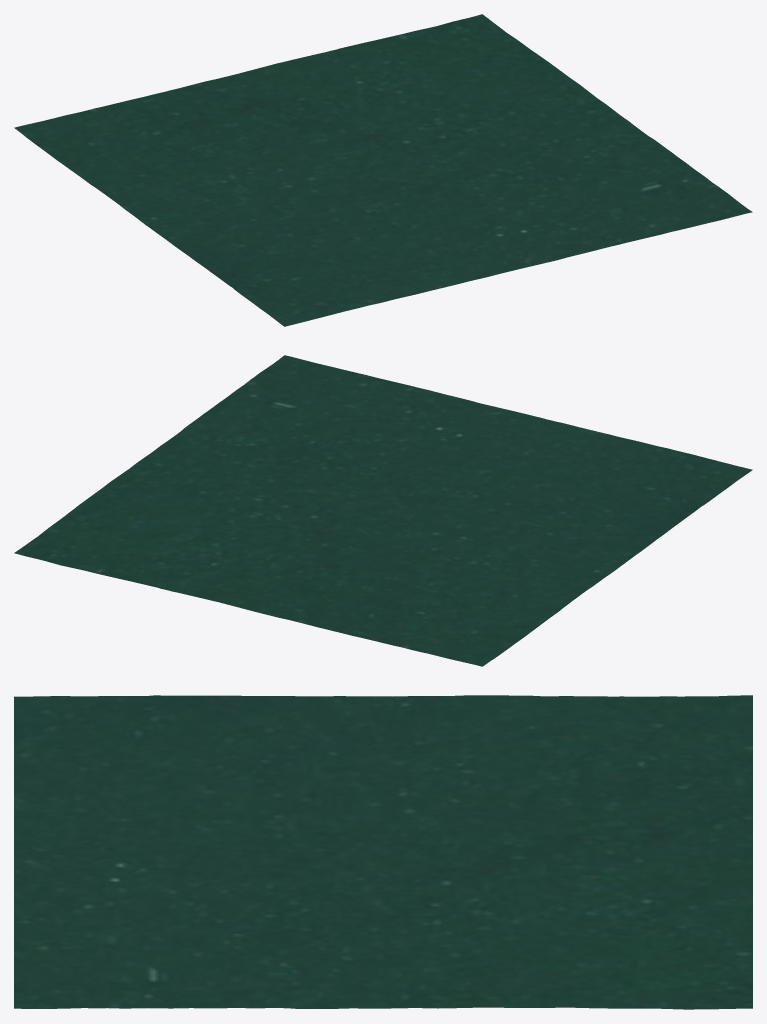
The picture shows the model from 3 angles, top to bottom: view 1: azimuth 30°, elevation 25°; view 2: azimuth 150°, elevation 25°; view 3: azimuth 270°, elevation 25°; orthographic projection. The views are drawn at different scales.
Size of the model in its own units: 104 by 0.4083 by 104.
Materials: 2 (2 with a texture image).
